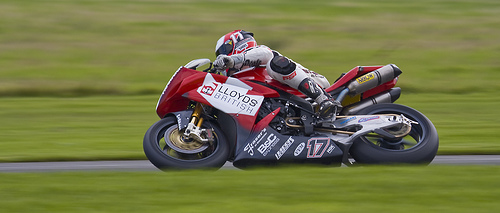helmet: (210, 29, 262, 55)
